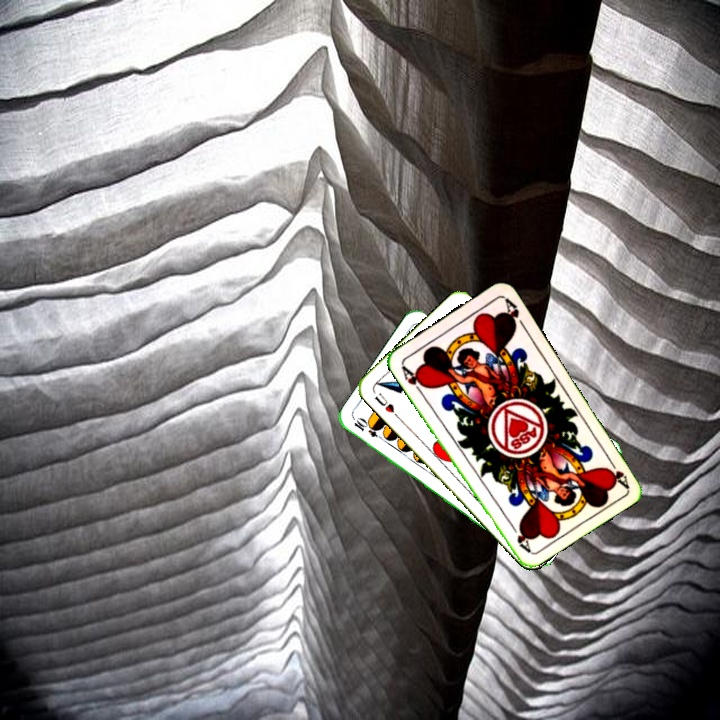E10: (350, 416, 387, 444)
HA: (397, 361, 429, 397), (602, 453, 631, 490)
HU: (371, 389, 397, 415)
